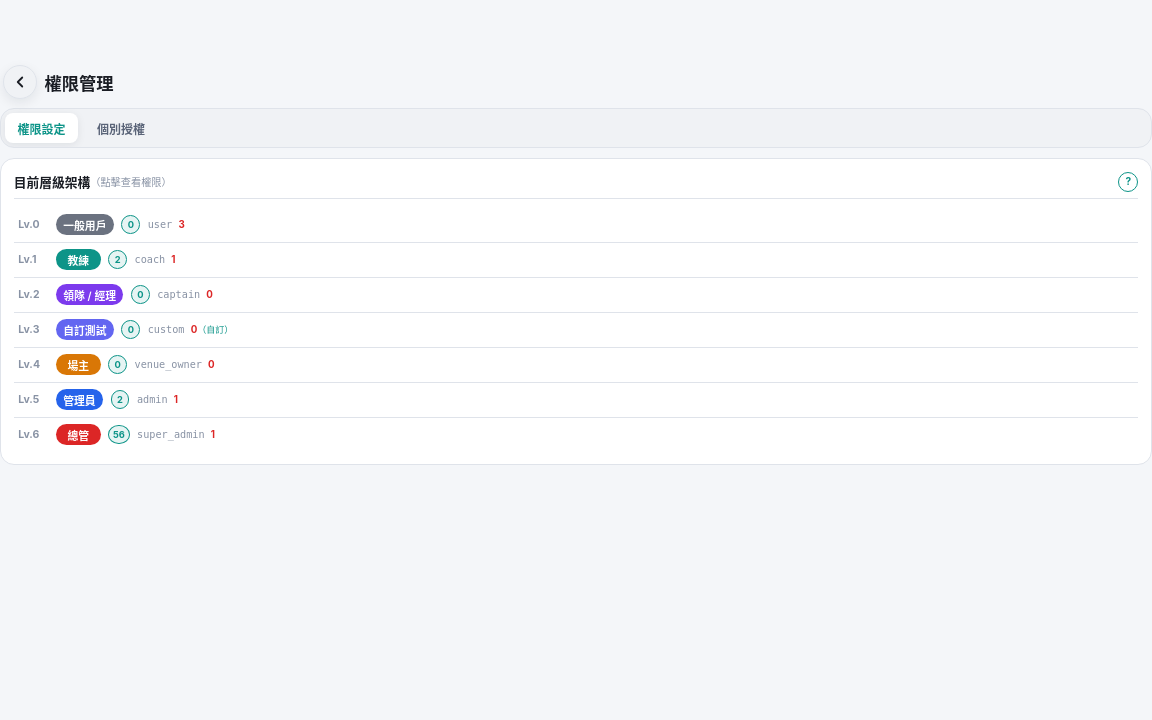
Scenario: T-079a 權限管理頁 › 只有權限設定與個別授權，沒有新增／刪除角色、權限測試
Click the button "Lv.3 自訂測試 0 custom 0（自訂）" at (85, 330), box [14,312,1138,348]
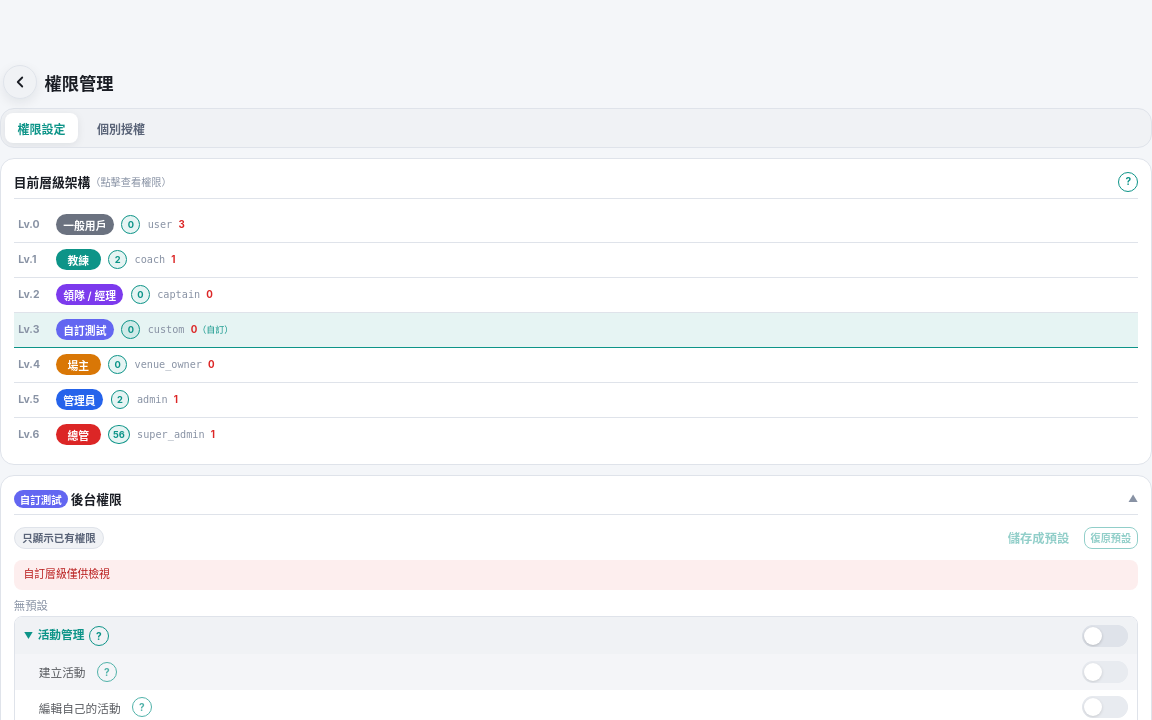
Now the checkbox named "顯示入口 (activity.manage.entry)" is disabled, box [1082,625,1128,647]
Now the checkbox named "建立活動 (event.create)" is disabled, box [1082,661,1128,683]
Now the checkbox named "編輯自己的活動 (event.edit_self)" is disabled, box [1082,696,1128,718]
